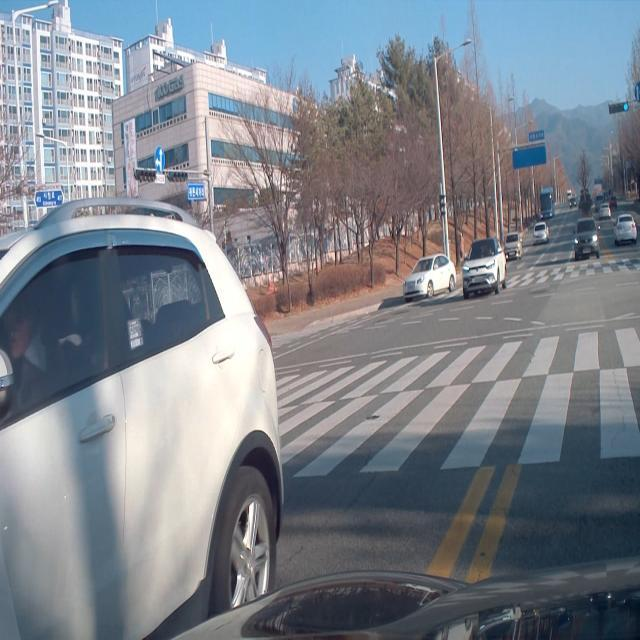crosswalk: (275, 325, 637, 475), (426, 256, 640, 300), (271, 319, 356, 351)
